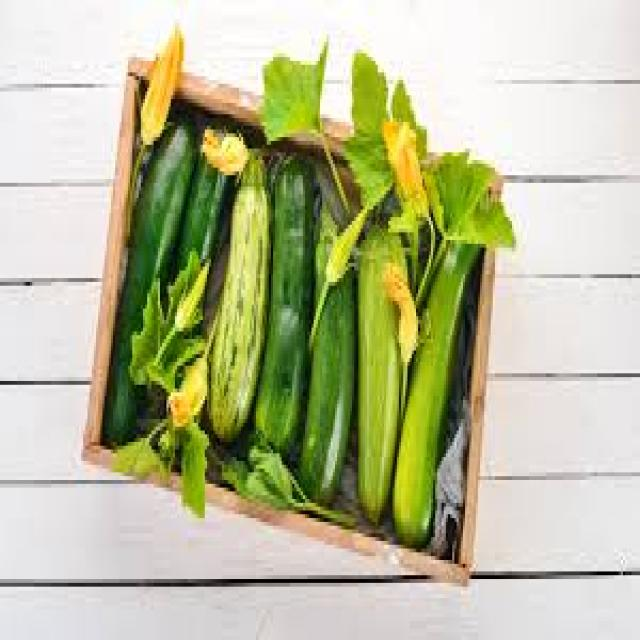Zucchini: (267, 166, 309, 474)
